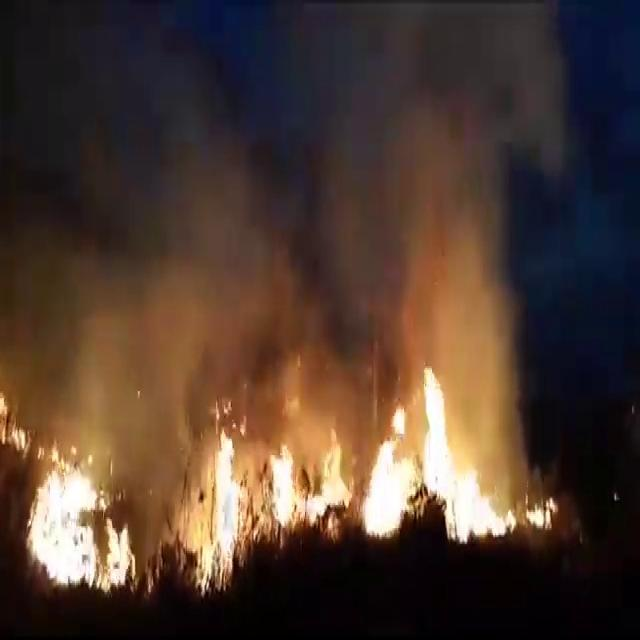Fire: (370, 361, 530, 546), (25, 453, 141, 592), (190, 426, 244, 582), (270, 428, 347, 532), (0, 368, 29, 453), (524, 494, 556, 530)
Smoke: (6, 19, 548, 335), (156, 104, 338, 375), (72, 253, 132, 452)
